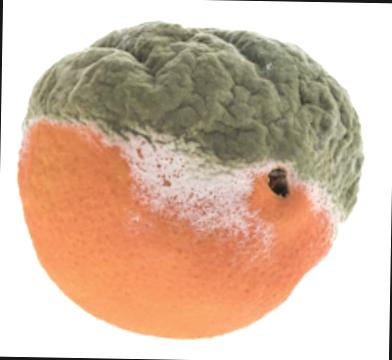Orange Rotten: (11, 9, 366, 353)
